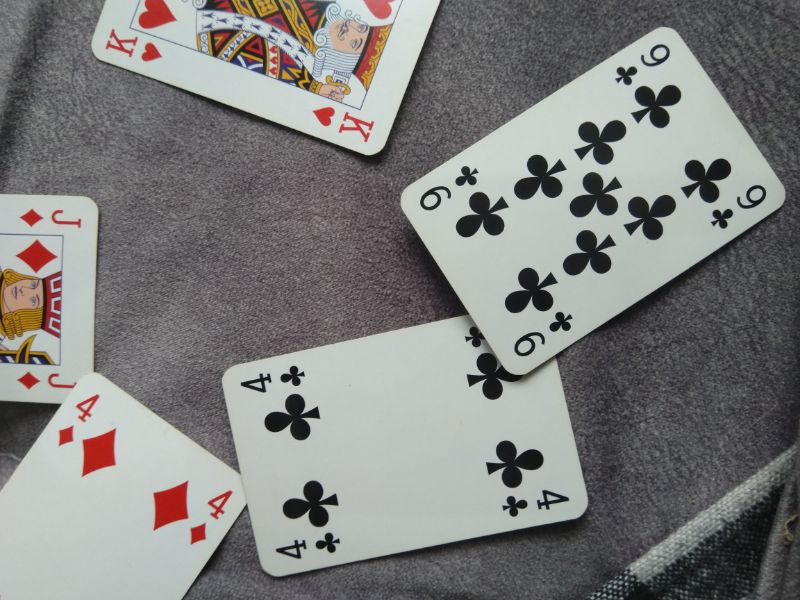4c: (499, 486, 575, 521), (239, 360, 311, 395), (273, 530, 345, 561)
4d: (188, 488, 235, 549), (57, 393, 102, 449)
9c: (509, 308, 575, 361), (416, 163, 481, 213), (707, 181, 770, 230), (614, 37, 675, 87)
Jd: (17, 205, 88, 232), (17, 367, 80, 393)
Kh: (310, 99, 377, 143), (104, 28, 167, 63)
